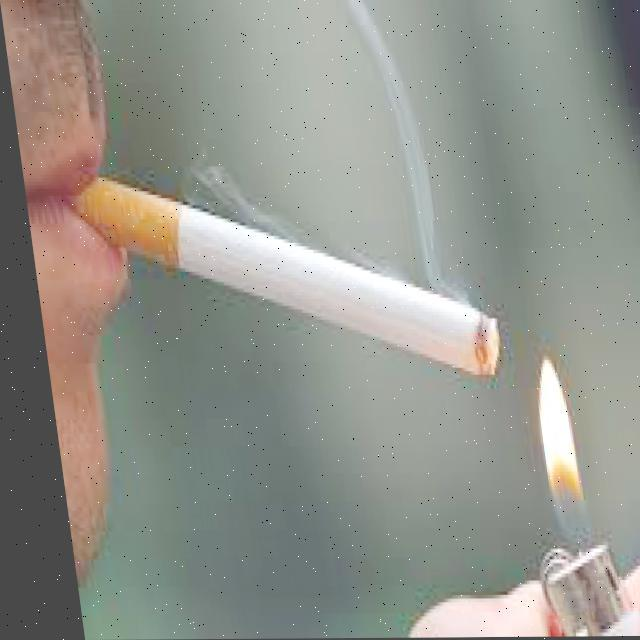Fire: (502, 350, 598, 532)
